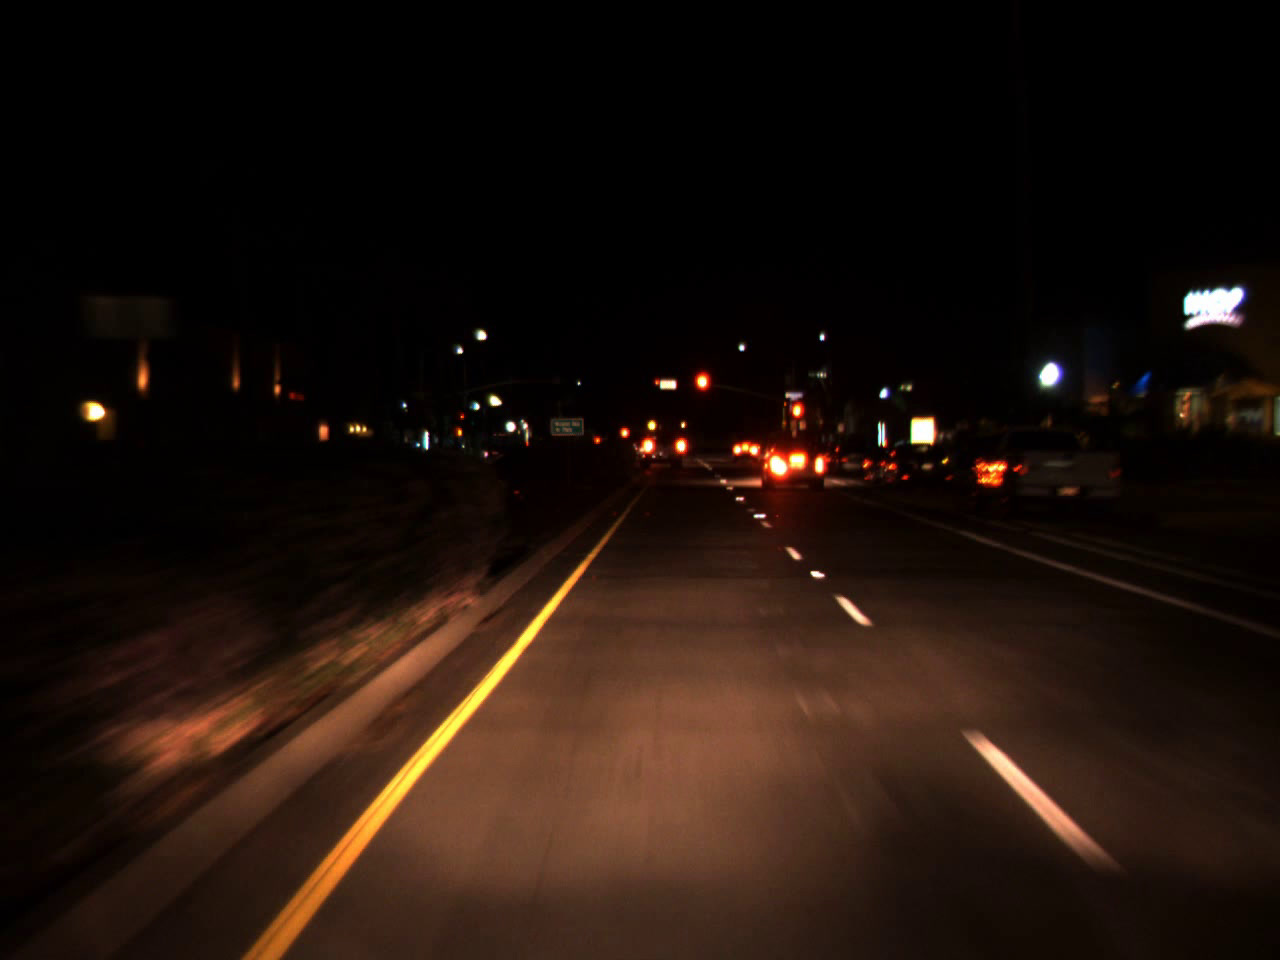stop: (692, 368, 711, 413), (789, 398, 807, 441), (655, 379, 661, 389)
